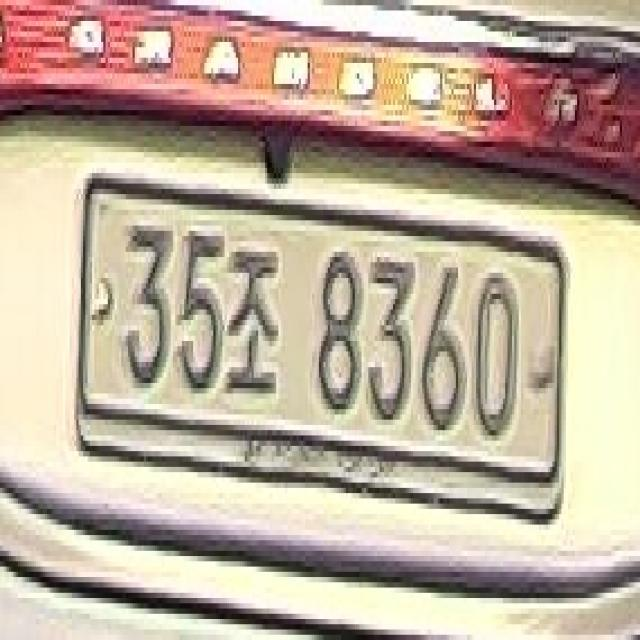0: (472, 262, 518, 436)
3: (366, 252, 418, 430), (126, 220, 175, 394)
5: (182, 225, 227, 398)
6: (420, 252, 465, 430)
8: (319, 242, 361, 414)
jo: (222, 241, 278, 399)
license_plate: (74, 162, 566, 488)
